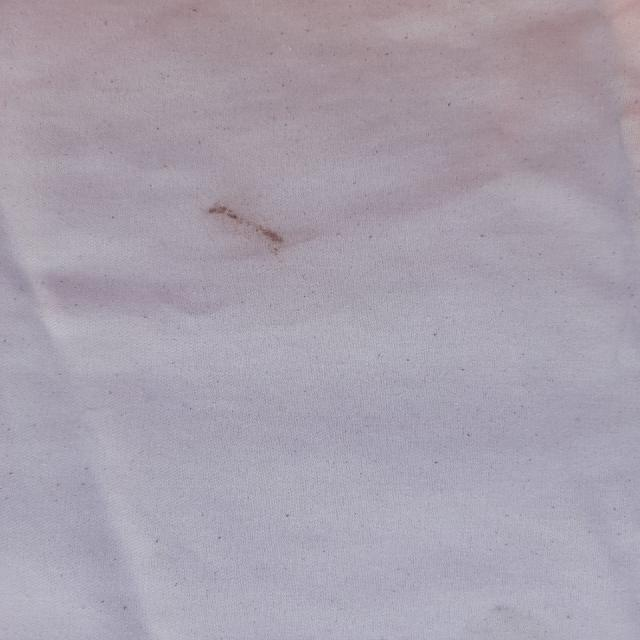taaaches: (180, 170, 304, 287)
